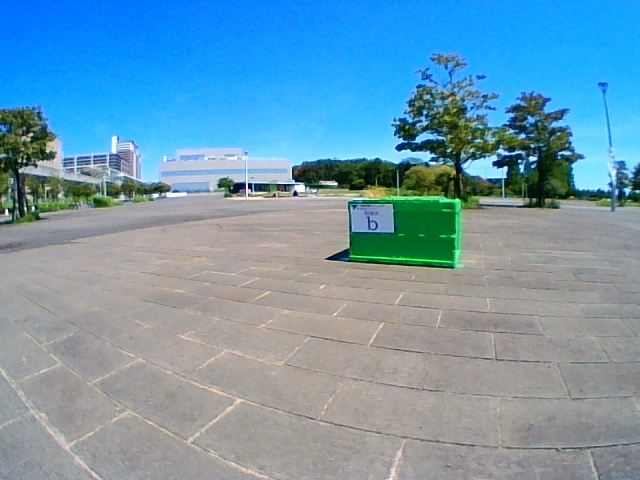green_box: (349, 198, 458, 268)
tag_b: (351, 205, 393, 232)
